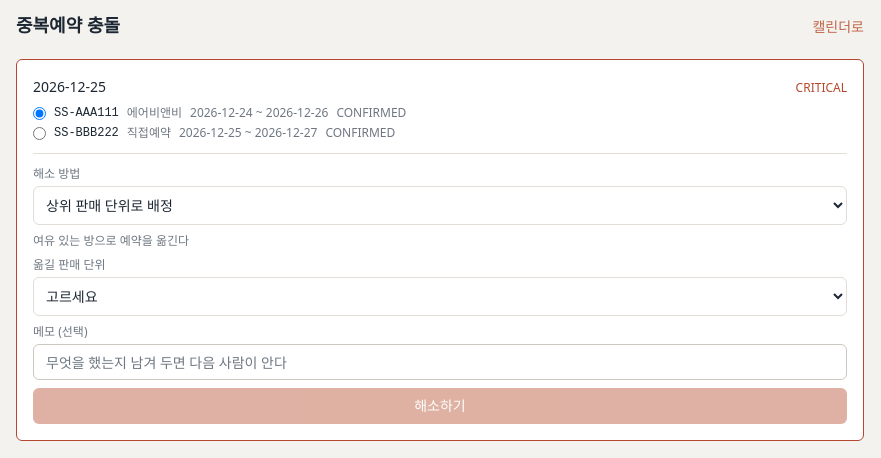
충돌 해소 › 업그레이드를 고르면 옮길 방을 고르기 전까지 해소할 수 없다
Check: the text "SS-AAA111" is shown, box x1=54 y1=105 x2=119 y2=121
Check: the button "해소하기" is disabled, box x1=33 y1=388 x2=847 y2=424
Select "별채 (잔여 2)" in the dropdown labelled "옮길 판매 단위" at [440, 296], box x1=33 y1=277 x2=847 y2=316
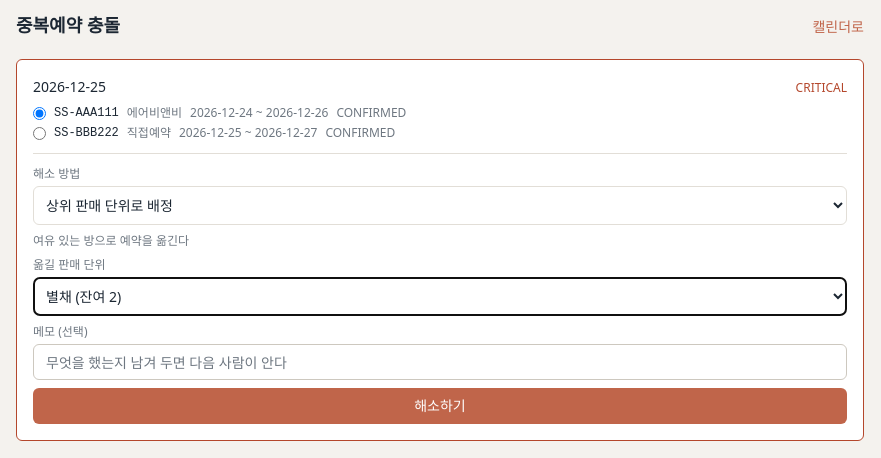
Check: the button "해소하기" is enabled, box x1=33 y1=388 x2=847 y2=424
